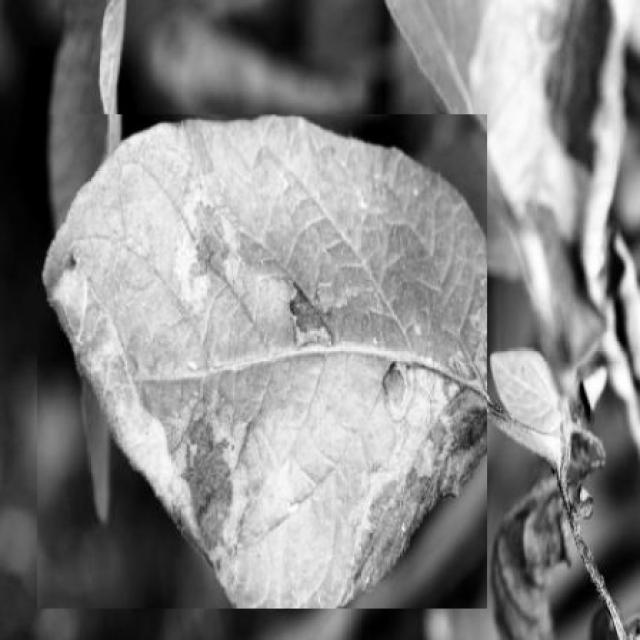Late Blight: (37, 114, 487, 609)
